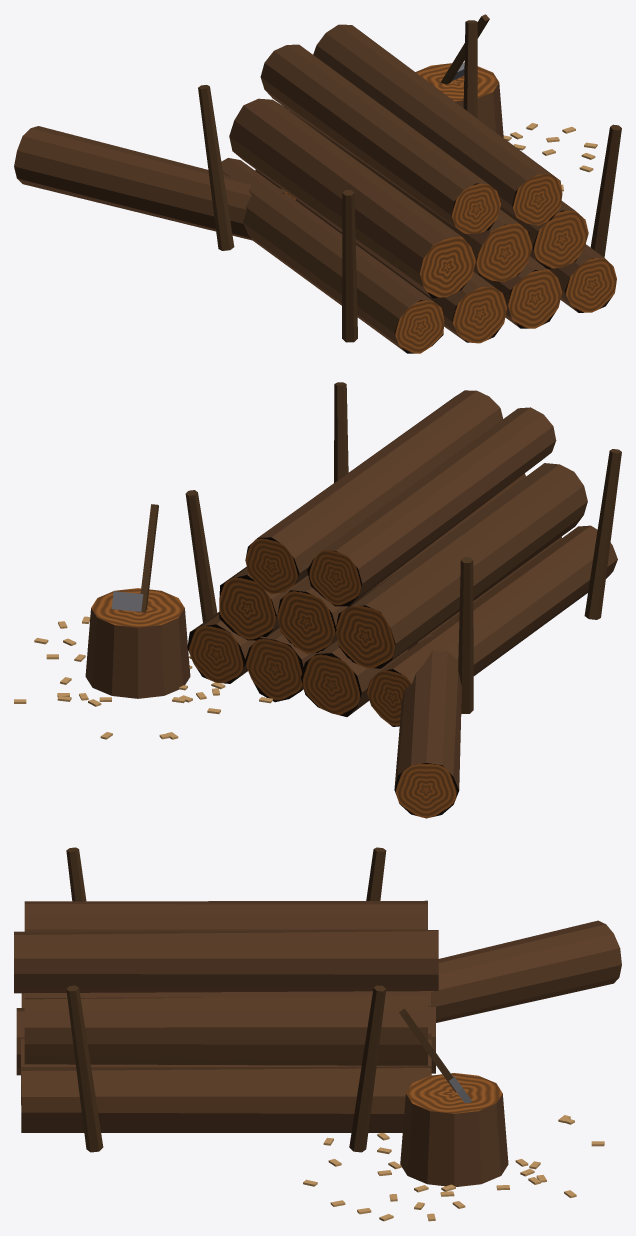
File: resource_timber_stack.glb
3 views of the same model, one above another, from view 1: azimuth 30°, elevation 25°; view 2: azimuth 150°, elevation 25°; view 3: azimuth 270°, elevation 25° (orthographic). The views are drawn at different scales.
Visible parts, largest first — view 1: Log.004, Log.007, Log.008, Log.009, Log, Log.005, Log.001, Log.002, Log.003, Log.006, Stake.001, Stump (+5 smaller); view 2: Log.004, Log.007, Log.008, Log, Stump, Log.009, Log.001, Log.005, Log.006, Log.002, Log.003, Stake (+5 smaller); view 3: Log.008, Log.006, Log.003, Log.007, Log.009, Stump, Stake.002, Stake.003, Log.005, Chips, Log.002, Log.001 (+3 smaller).
Boxes of the visible parts, x1,y1,x2,y2 form: Log.004: (229, 98, 475, 298); Log.007: (260, 44, 501, 233); Log.008: (313, 24, 562, 225); Log.009: (14, 126, 295, 240); Log: (221, 158, 444, 353); Log.005: (290, 111, 532, 281); Log.001: (255, 169, 506, 343); Log.002: (475, 257, 561, 328); Log.003: (549, 244, 616, 312); Log.006: (500, 201, 588, 269); Stake.001: (198, 85, 234, 250); Stump: (415, 63, 503, 137); Log.004: (336, 463, 587, 668); Log.007: (307, 407, 556, 606); Log.008: (245, 390, 502, 594); Log: (366, 525, 617, 726); Stump: (85, 588, 190, 698); Log.009: (394, 634, 461, 818); Log.001: (301, 536, 561, 716); Log.005: (277, 473, 525, 653); Log.006: (219, 566, 308, 640); Log.002: (244, 627, 317, 702); Log.003: (187, 612, 255, 683); Stake: (584, 449, 621, 619); Log.008: (14, 930, 438, 993); Log.006: (24, 996, 427, 1065); Log.003: (21, 1066, 431, 1132); Log.007: (24, 900, 427, 931); Log.009: (431, 920, 621, 1022); Stump: (400, 1073, 508, 1186); Stake.002: (66, 985, 103, 1152); Stake.003: (349, 985, 386, 1152); Log.005: (25, 991, 427, 998); Chips: (303, 1115, 604, 1221); Log.002: (21, 1033, 431, 1104); Log.001: (16, 1006, 435, 1075).
Size of the model in its own units: 4.19 by 1.34 by 4.27.
Materials: 5 (1 with a texture image).
